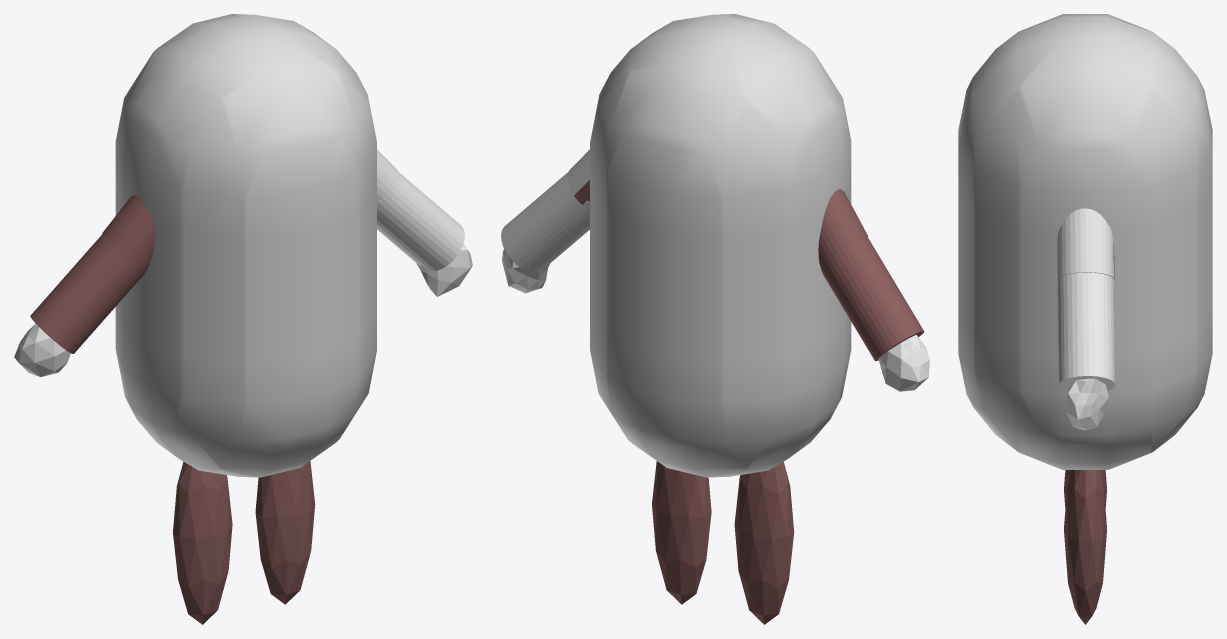
The model's file is The headless.fbx.
3 renders of one model, left to right at view 1: azimuth 30°, elevation 25°; view 2: azimuth 150°, elevation 25°; view 3: azimuth 270°, elevation 25°, orthographic.
Visible parts, largest first — view 1: Mball, Icosphere.002, Cylinder.005, Icosphere.003, Cylinder.001, Cylinder.004, Icosphere.001, Icosphere, Cylinder; view 2: Mball, Icosphere.002, Cylinder.005, Icosphere.003, Cylinder.001, Icosphere.001, Cylinder.004, Icosphere, Cylinder; view 3: Mball, Cylinder.001, Icosphere.003, Cylinder, Icosphere.
Part boxes in pixels (left/top/right/bottom): Mball: left=115, top=14, right=376, bottom=477; Icosphere.002: left=173, top=461, right=232, bottom=624; Cylinder.005: left=30, top=234, right=150, bottom=353; Icosphere.003: left=255, top=461, right=315, bottom=604; Cylinder.001: left=377, top=172, right=464, bottom=271; Cylinder.004: left=102, top=195, right=155, bottom=265; Icosphere.001: left=14, top=323, right=70, bottom=377; Icosphere: left=416, top=244, right=472, bottom=296; Cylinder: left=377, top=149, right=399, bottom=202; Mball: left=590, top=14, right=851, bottom=477; Icosphere.002: left=734, top=461, right=794, bottom=624; Cylinder.005: left=818, top=236, right=923, bottom=361; Icosphere.003: left=652, top=461, right=711, bottom=604; Cylinder.001: left=501, top=172, right=589, bottom=272; Icosphere.001: left=878, top=334, right=929, bottom=391; Cylinder.004: left=818, top=189, right=867, bottom=258; Icosphere: left=502, top=249, right=550, bottom=293; Cylinder: left=567, top=149, right=589, bottom=195; Mball: left=958, top=14, right=1212, bottom=469; Cylinder.001: left=1057, top=272, right=1115, bottom=391; Icosphere.003: left=1064, top=470, right=1106, bottom=624; Cylinder: left=1057, top=208, right=1113, bottom=278; Icosphere: left=1066, top=378, right=1108, bottom=430.
Size of the model in its own units: 447 by 569 by 227.
